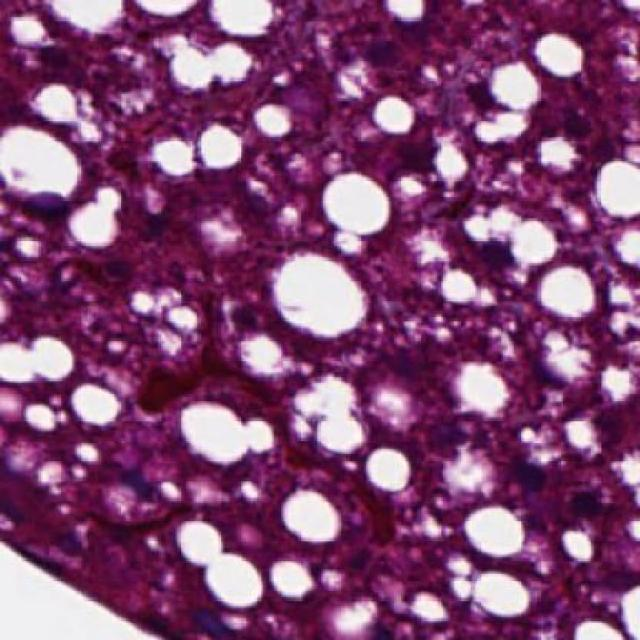steatosis: (266, 249, 372, 348), (315, 166, 403, 241)
